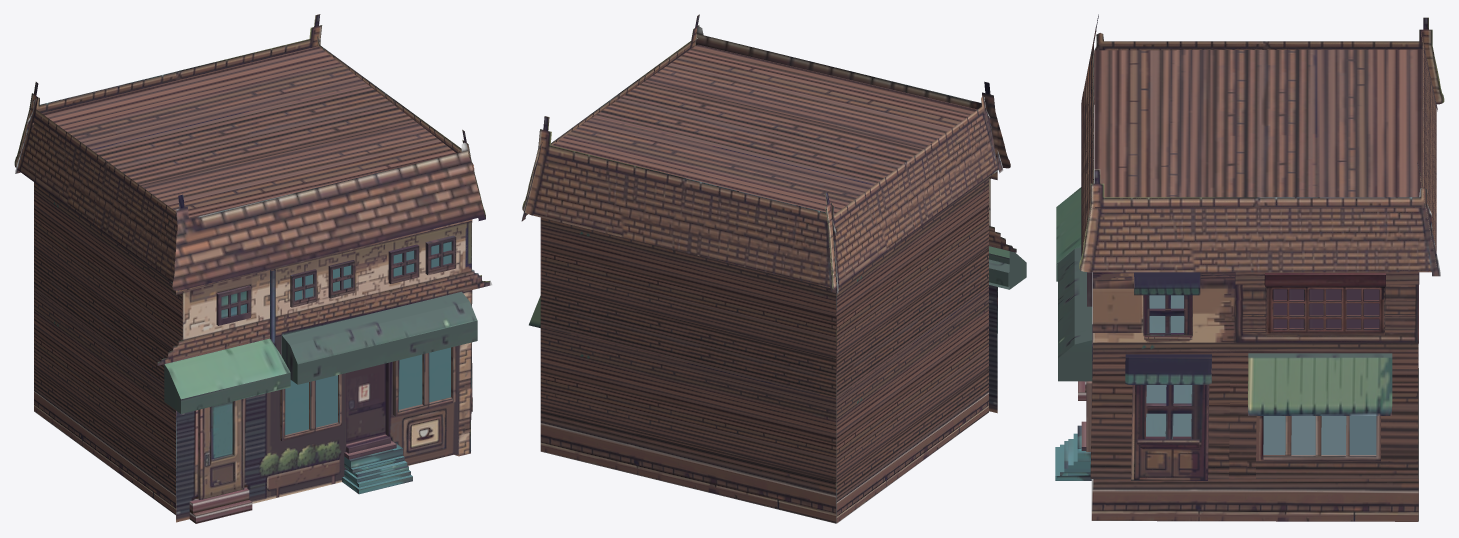
The model's file is shop.glb.
3 views of the same model, side by side, from view 1: azimuth 30°, elevation 25°; view 2: azimuth 150°, elevation 25°; view 3: azimuth 270°, elevation 25° (orthographic). The views are drawn at different scales.
Visible parts, largest first — view 1: pixelArtBuildingFront.001_7; view 2: pixelArtBuildingFront.001_7; view 3: pixelArtBuildingFront.001_7.
Boxes of the visible parts, left/top/right/bottom form: pixelArtBuildingFront.001_7: left=14, top=14, right=492, bottom=523; pixelArtBuildingFront.001_7: left=521, top=14, right=1026, bottom=523; pixelArtBuildingFront.001_7: left=1055, top=14, right=1444, bottom=521.
Size of the model in its own units: 7 by 6.53 by 6.38.
1 material, 1 textured.
